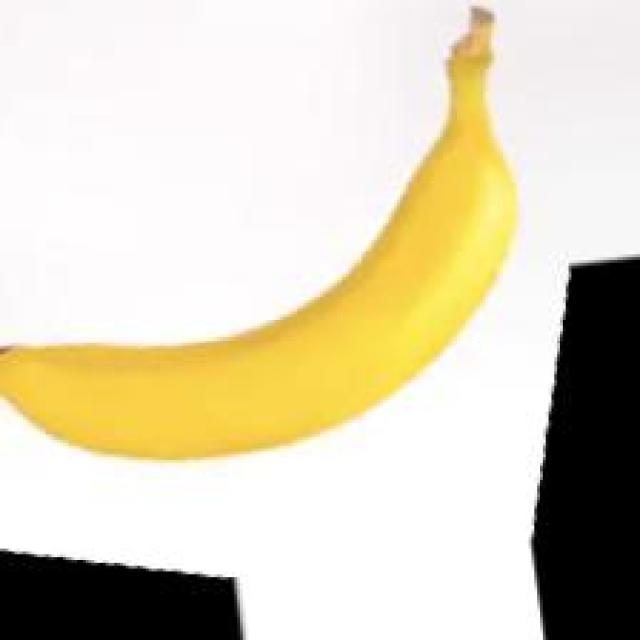banana: (0, 44, 603, 548)
